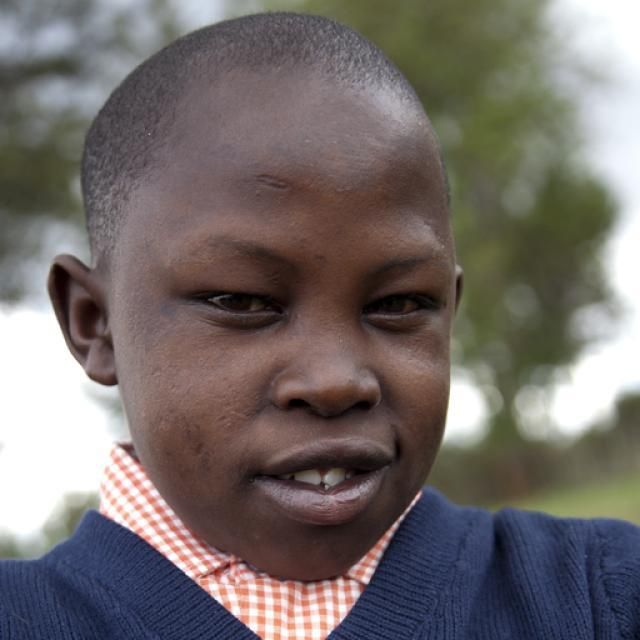happy: (118, 111, 456, 580)
